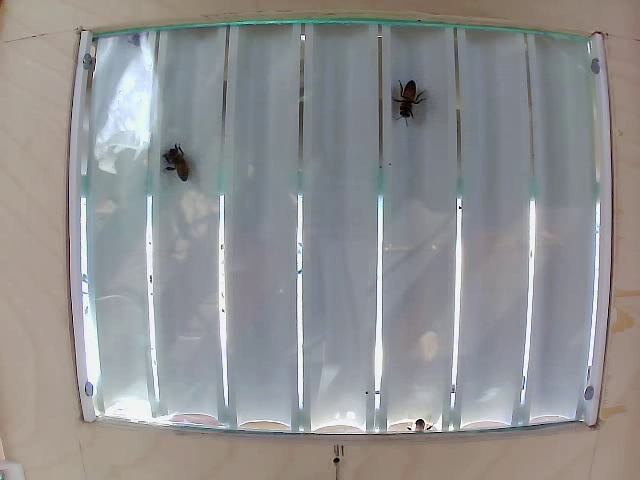bee: (163, 139, 197, 187), (397, 74, 422, 126)
